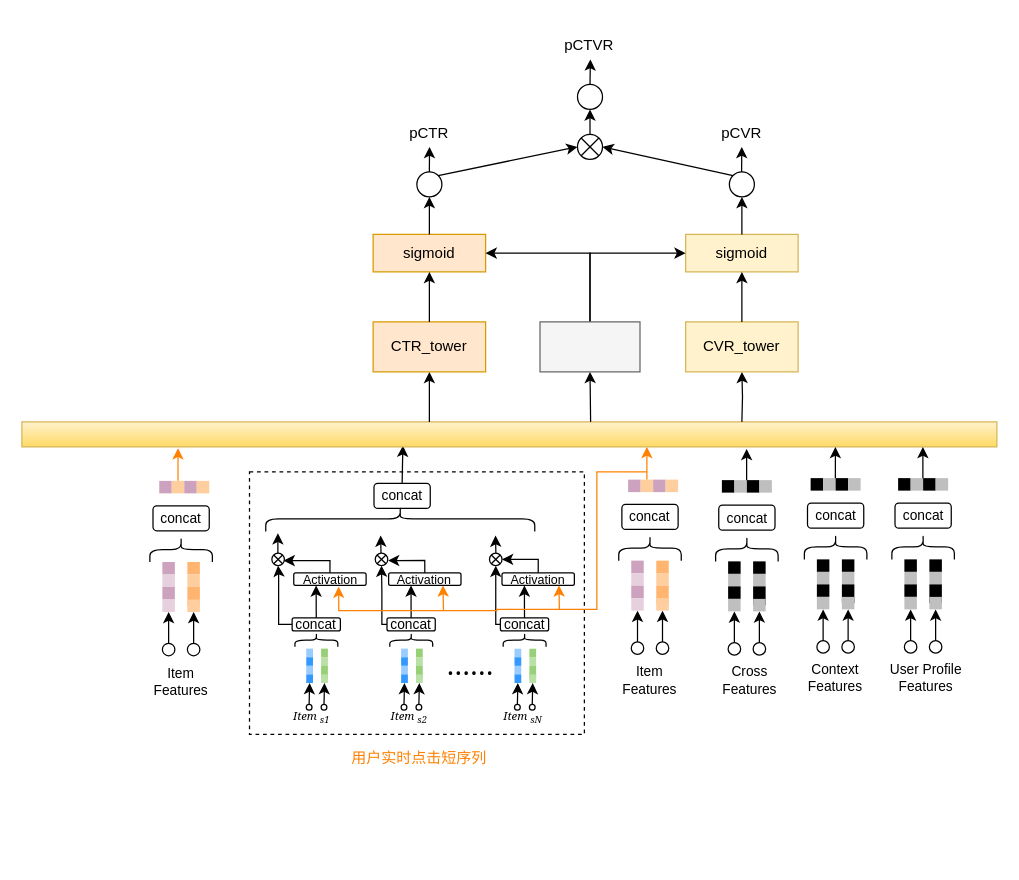
Some shapes in this 1019 by 880 pixel diagram are drawn without their labels. The box of each missing label's shape, as (x1, y1, x2, y2) in pixels:
All Features Embedding: (21, 421, 997, 447)
Bias_tower: (539, 321, 640, 372)
